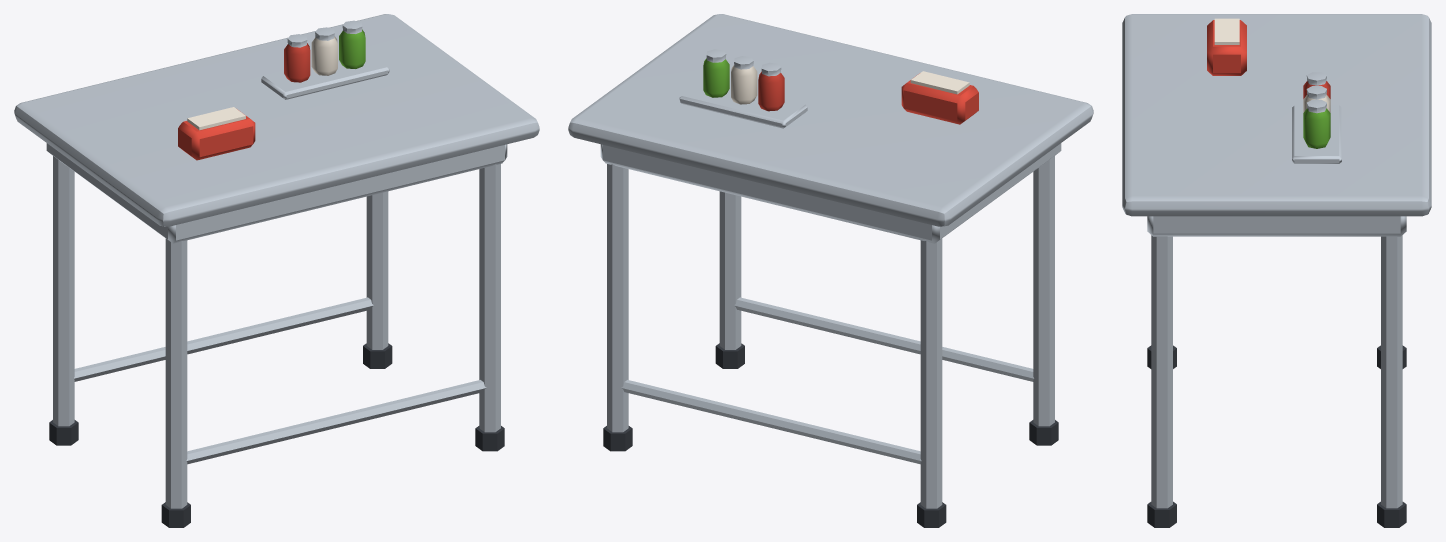
Rendered from prop_table.glb.
3 renders of one model, left to right at view 1: azimuth 30°, elevation 25°; view 2: azimuth 150°, elevation 25°; view 3: azimuth 270°, elevation 25°, orthographic. The views are drawn at different scales.
Visible parts, largest first — view 1: prop_table; view 2: prop_table; view 3: prop_table.
Boxes of the visible parts, x1,y1,x2,y2 form: prop_table: [14, 14, 539, 527]; prop_table: [568, 14, 1093, 527]; prop_table: [1122, 14, 1431, 527].
Bounding box in the file's own units: 0.9 × 0.86 × 0.62.
